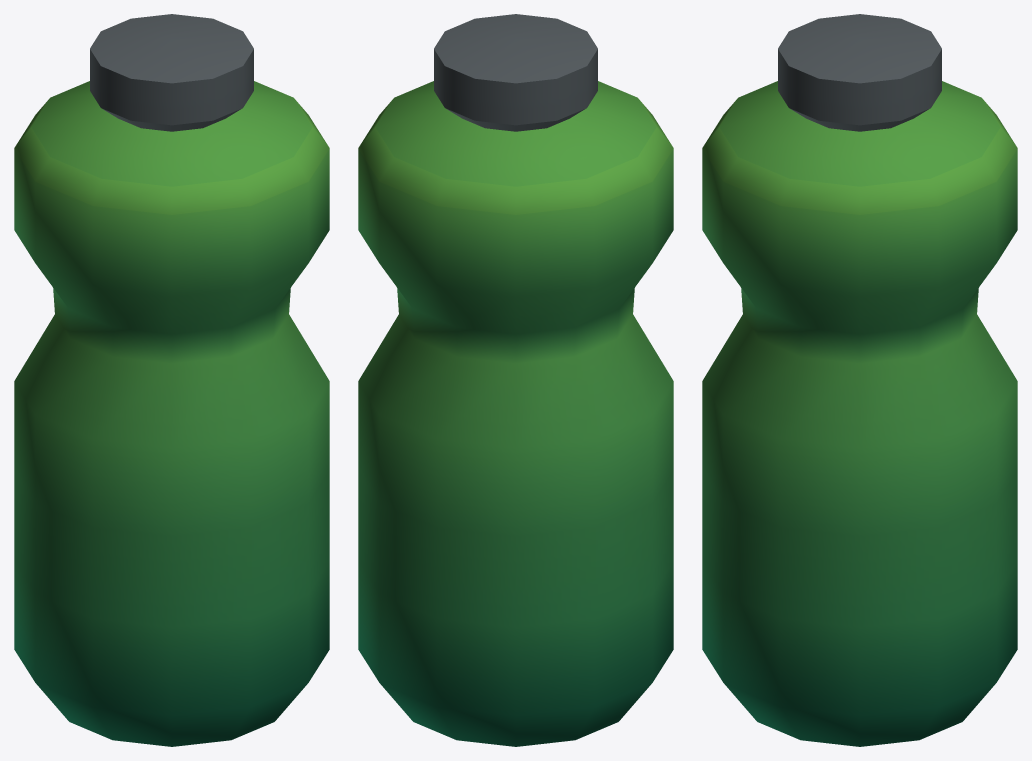
The model's file is Waterbottle.obj.
The picture shows the model from 3 angles, left to right: view 1: azimuth 30°, elevation 25°; view 2: azimuth 150°, elevation 25°; view 3: azimuth 270°, elevation 25°; orthographic projection.
Visible parts, largest first — view 1: Waterbottle; view 2: Waterbottle; view 3: Waterbottle.
Boxes of the visible parts, x1,y1,x2,y2 form: Waterbottle: [14, 14, 329, 746]; Waterbottle: [358, 14, 673, 746]; Waterbottle: [702, 14, 1017, 746].
Bounding box in the file's own units: 0.1877 × 0.4318 × 0.1877.
1 material, 1 textured.
